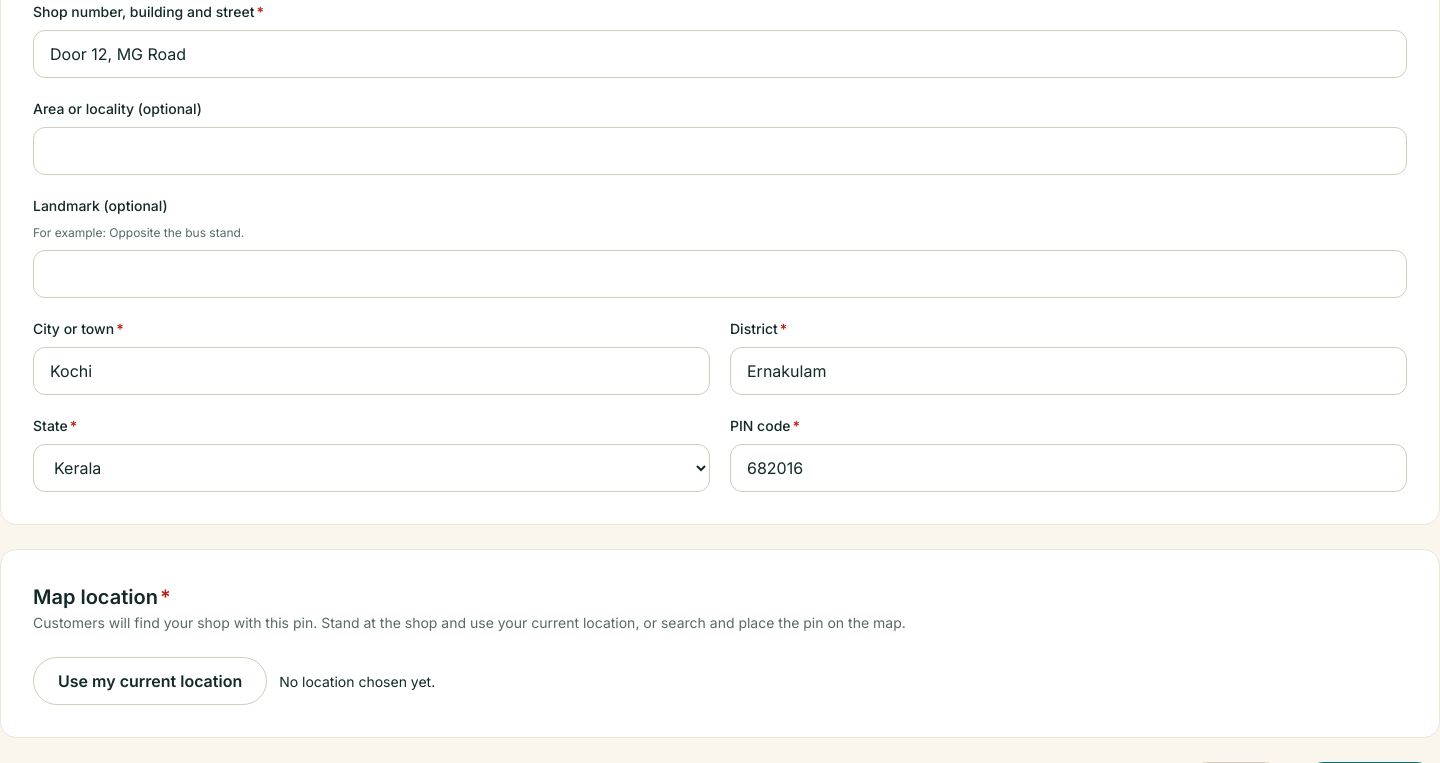
ShopProfileForm › explains a blocked permission and keeps no location
This screenshot has width=1440, height=763.
(page scrolled)
Click the button "Use my current location" at [150, 681], box [33, 657, 267, 705]
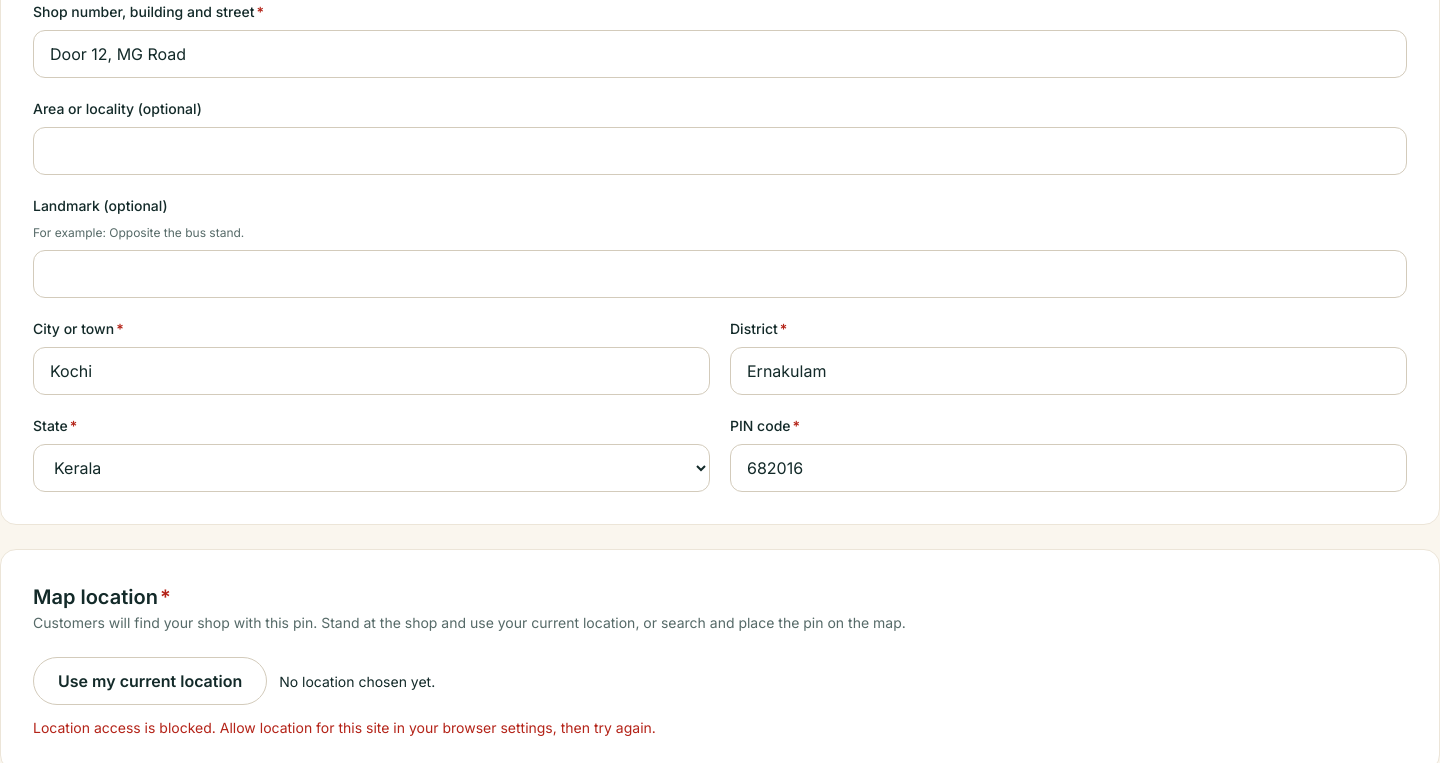
Expected: the text "No location chosen yet." is shown, [279, 670, 435, 692]
Result: the message shows "Location access is blocked. Allow location for this site in your browser settings, then try again." at [33, 719, 656, 736]
